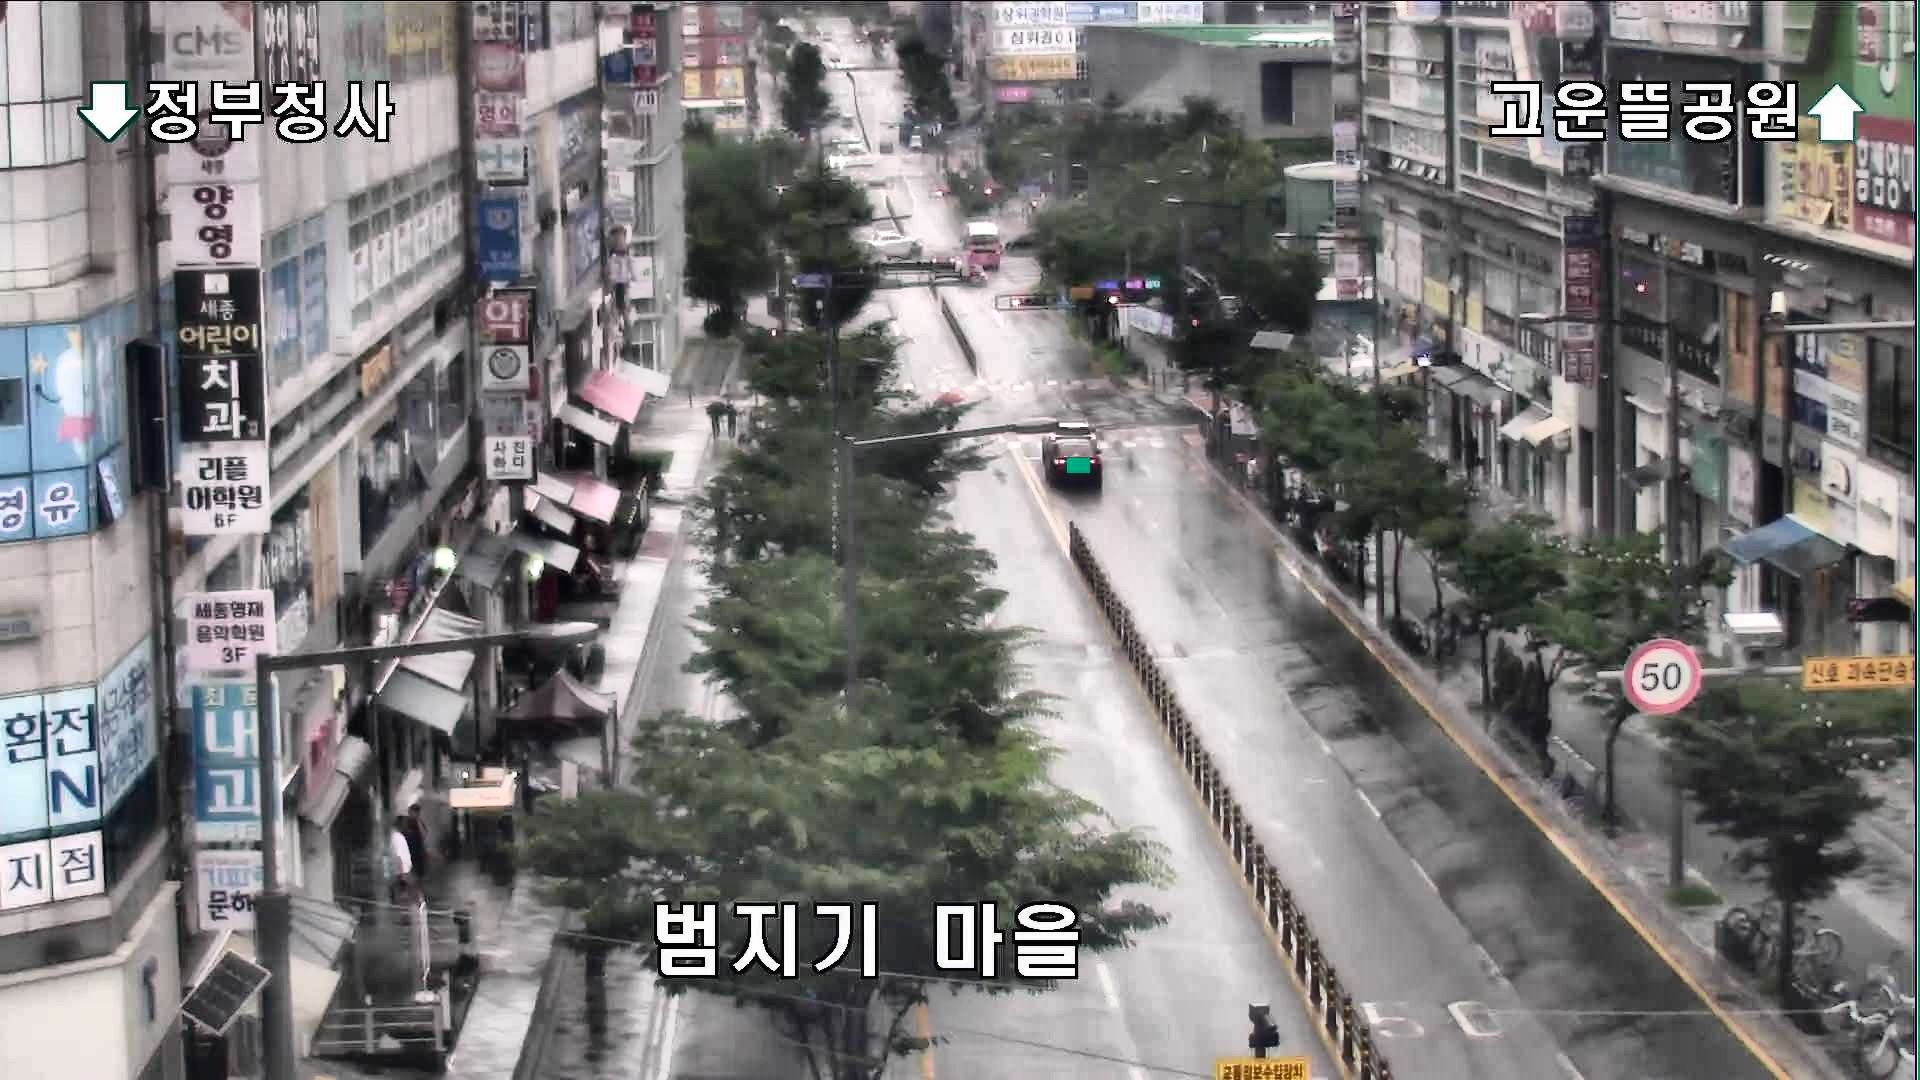sidewalk: (397, 798, 430, 899), (386, 814, 415, 913)
um_crosswalk: (932, 390, 965, 448)
um_sidewalk: (723, 393, 745, 436), (705, 401, 725, 440)
